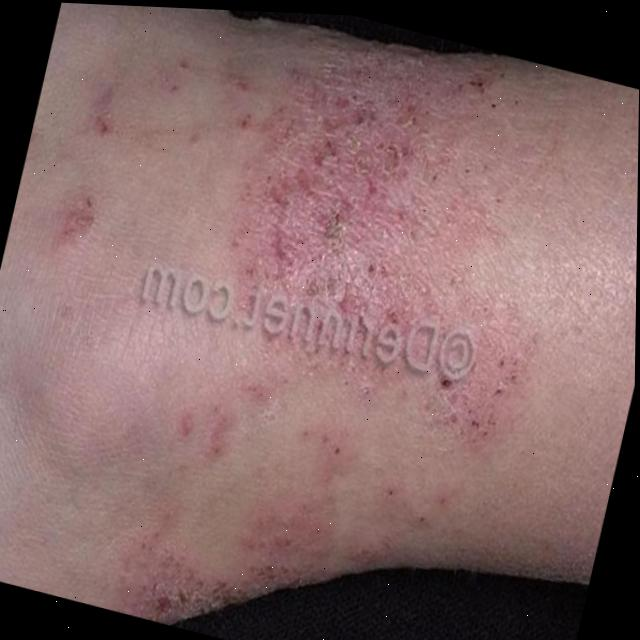Eczema: (127, 6, 580, 486), (115, 485, 310, 640)
